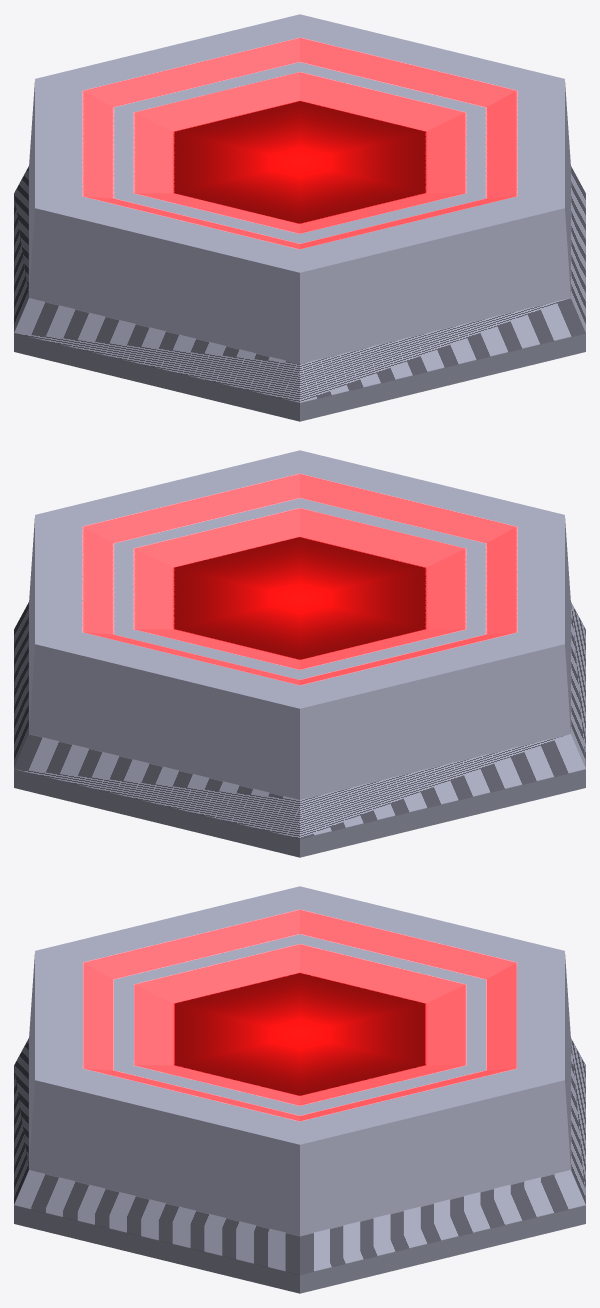
The model's file is hex_power_pad.glb.
3 renders of one model, top to bottom at view 1: azimuth 30°, elevation 25°; view 2: azimuth 150°, elevation 25°; view 3: azimuth 270°, elevation 25°, orthographic.
Visible parts, largest first — view 1: hex_power_pad.001; view 2: hex_power_pad.001; view 3: hex_power_pad.001.
Boxes of the visible parts, x1,y1,x2,y2 form: hex_power_pad.001: (14,14,585,421); hex_power_pad.001: (14,450,585,857); hex_power_pad.001: (14,886,585,1293).
Bounding box in the file's own units: 1.53 × 0.3534 × 1.32.
Materials: 1 (1 with a texture image).
